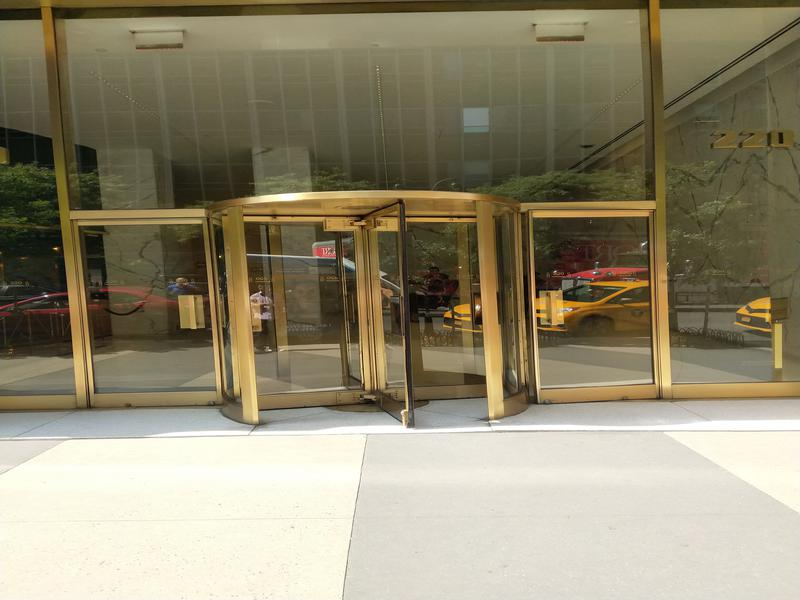door: (69, 191, 208, 419), (538, 193, 665, 423)
revolving_door: (213, 188, 528, 423)
